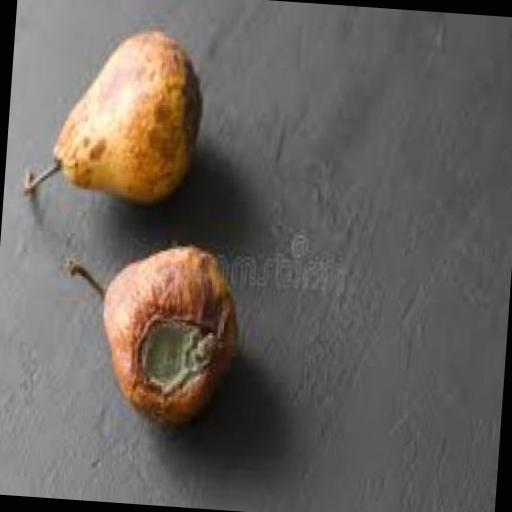biodegradable: (56, 230, 243, 424), (20, 18, 206, 206)
